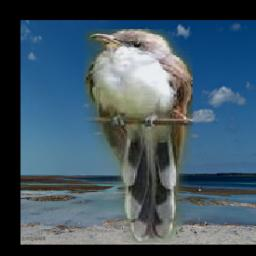Cuckoo: (83, 29, 192, 243)
